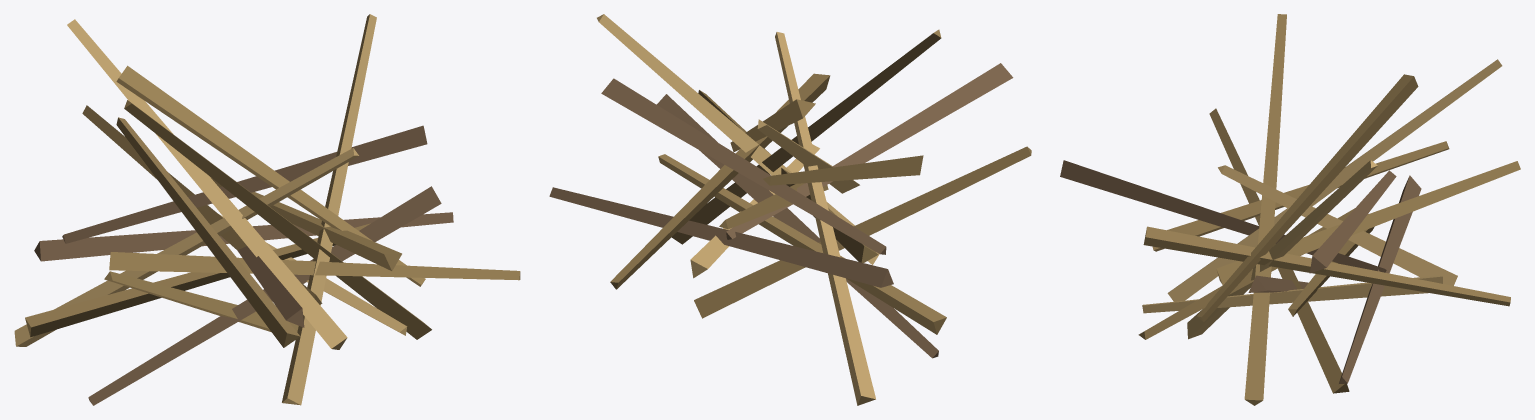
The model's file is tumbleweed.glb.
The picture shows the model from 3 angles, left to right: view 1: azimuth 30°, elevation 25°; view 2: azimuth 150°, elevation 25°; view 3: azimuth 270°, elevation 25°; orthographic projection. The views are drawn at different scales.
Parts seen in each view (by area): view 1: tumbleweed; view 2: tumbleweed; view 3: tumbleweed.
Part boxes in pixels (bbox=[...]): tumbleweed: bbox=[14, 14, 520, 405]; tumbleweed: bbox=[549, 14, 1031, 405]; tumbleweed: bbox=[1060, 14, 1520, 405].
Size of the model in its own units: 0.4864 by 0.3492 by 0.507.
Materials: 2 (2 with a texture image).
